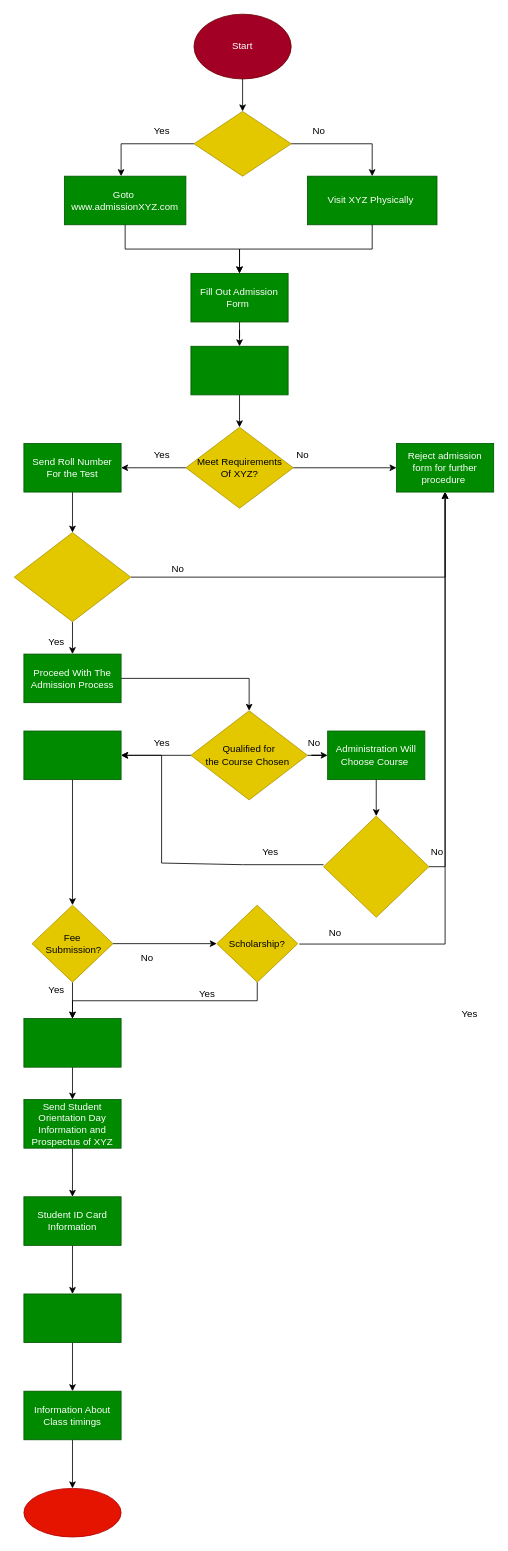
Some shapes in this 508 by 1551 pixel diagram are drawn without their labels. The centre of each missing label's shape, as x and y in pixels:
"Accept?" goes at pixel 376 866.
"Admission Form Online?" goes at pixel 242 143.
"Congratulations Enroll Student in that Course" goes at pixel 72 755.
"End" goes at pixel 72 1512.
"Evaluation of Admission Form" goes at pixel 239 370.
"Fee is Paid" goes at pixel 72 1042.
"Information About Chosen Course and Credit Hours" goes at pixel 72 1318.
"Test passed ?" goes at pixel 72 577.
